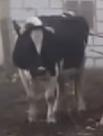cow: (12, 15, 89, 126)
